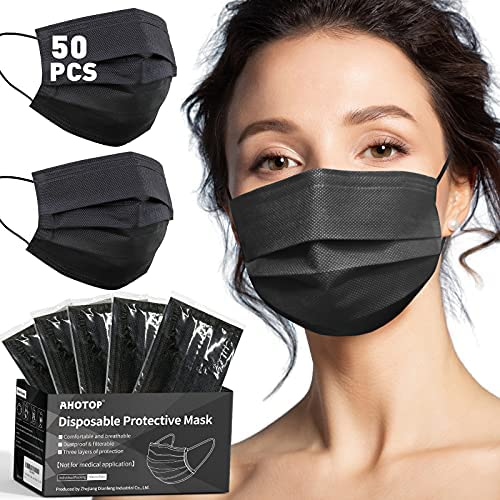mask: (221, 164, 465, 344), (1, 5, 177, 144), (1, 152, 177, 291)
person: (183, 1, 500, 500)
